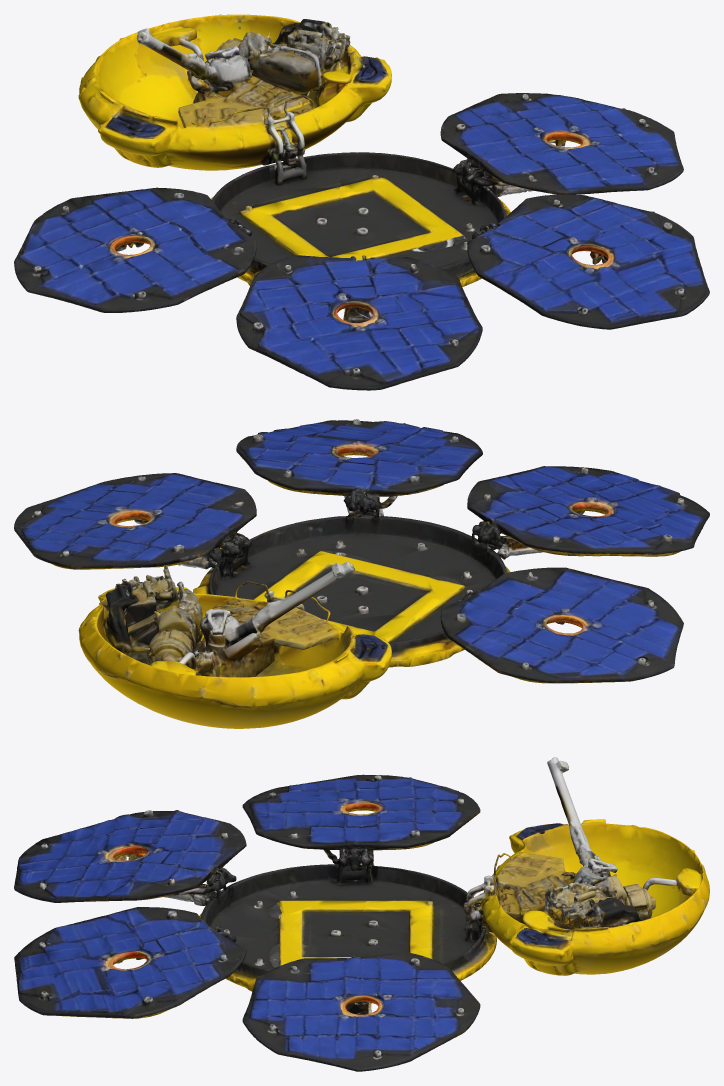
The model's file is beagle2.glb.
3 views of the same model, one above another, from view 1: azimuth 30°, elevation 25°; view 2: azimuth 150°, elevation 25°; view 3: azimuth 270°, elevation 25° (orthographic). The views are drawn at different scales.
Size of the model in its own units: 1.9 by 0.4497 by 1.89.
Materials: 1 (1 with a texture image).
